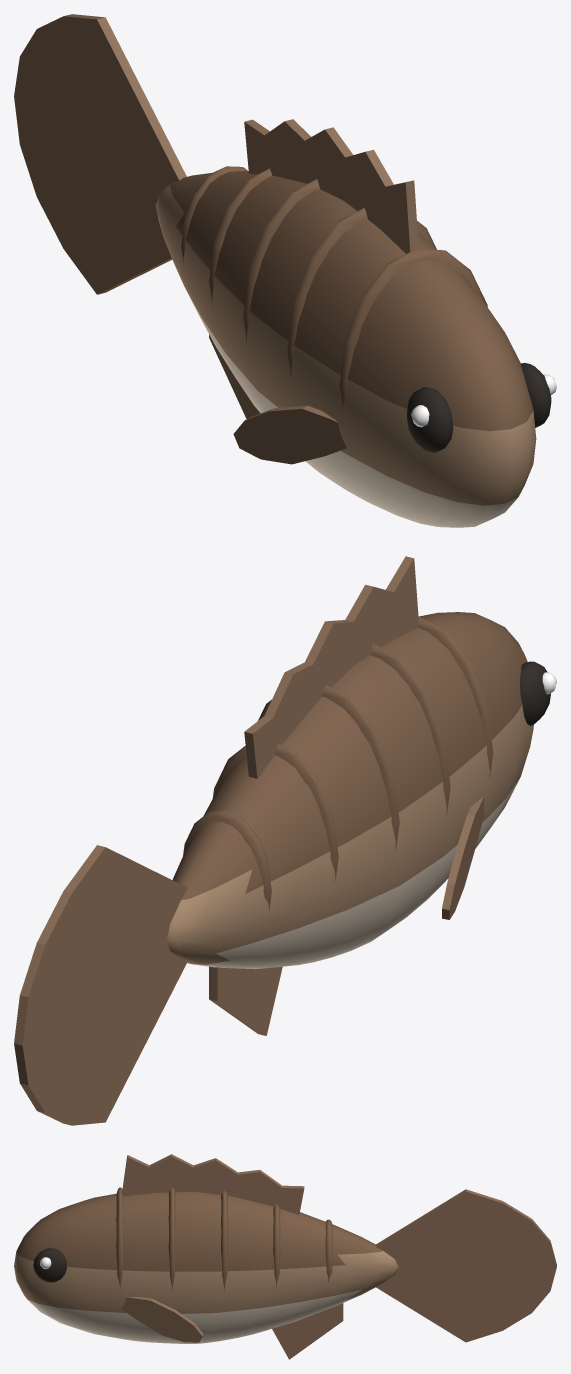
The model's file is fish-grouper.glb.
3 renders of one model, top to bottom at view 1: azimuth 30°, elevation 25°; view 2: azimuth 150°, elevation 25°; view 3: azimuth 270°, elevation 25°, orthographic. The views are drawn at different scales.
Visible parts, largest first — view 1: fish; view 2: fish; view 3: fish.
Part boxes in pixels (x1,y1,x2,y2): fish: [14, 14, 556, 527]; fish: [14, 556, 556, 1125]; fish: [14, 1154, 556, 1359].
Bounding box in the file's own units: 0.1507 × 0.2472 × 0.5979.
